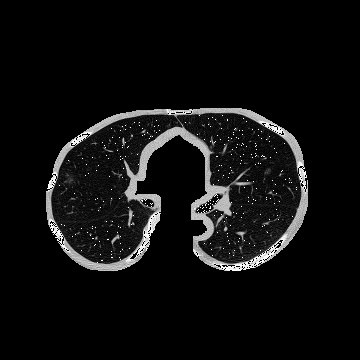PN: (265, 168, 271, 174)
